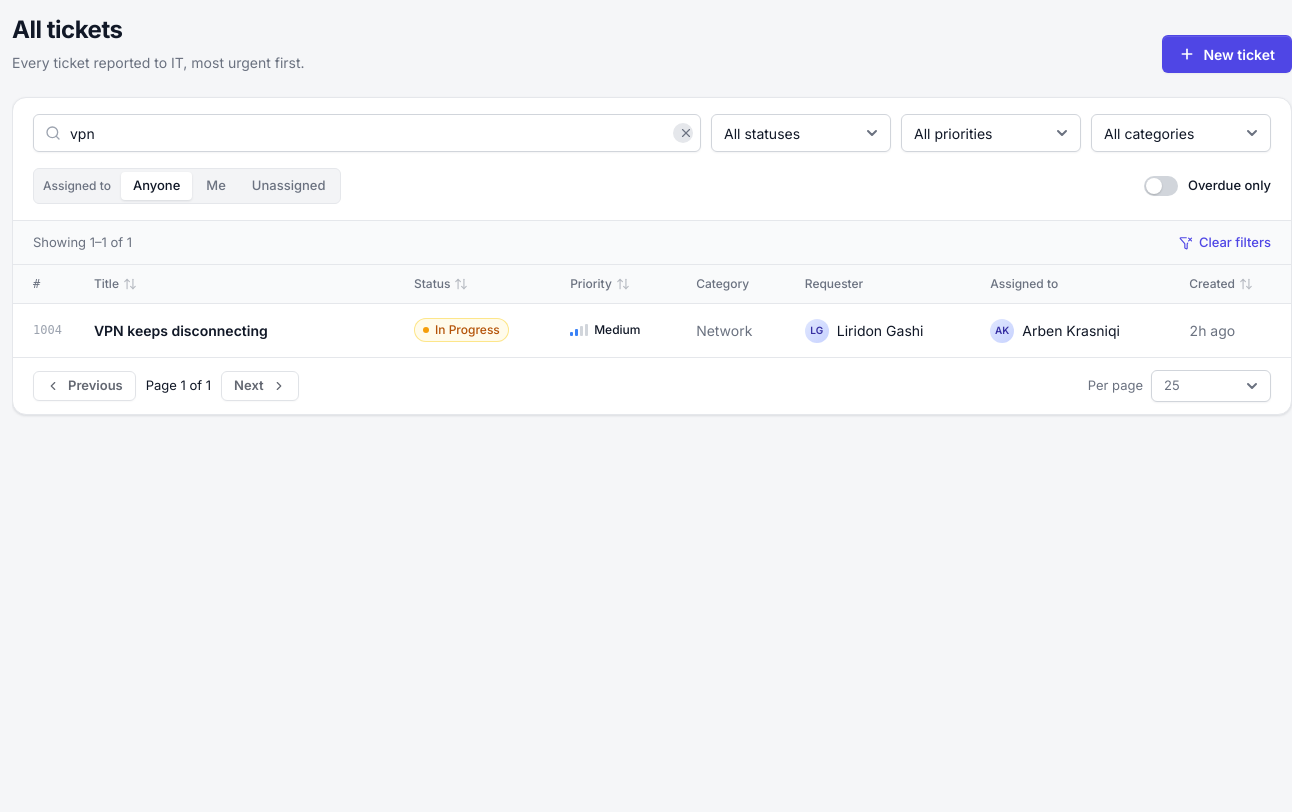
Test: TicketList › filters › clears the search with the × button
Click the button named "Clear search". click: (683, 133)
box: [673,123,693,143]
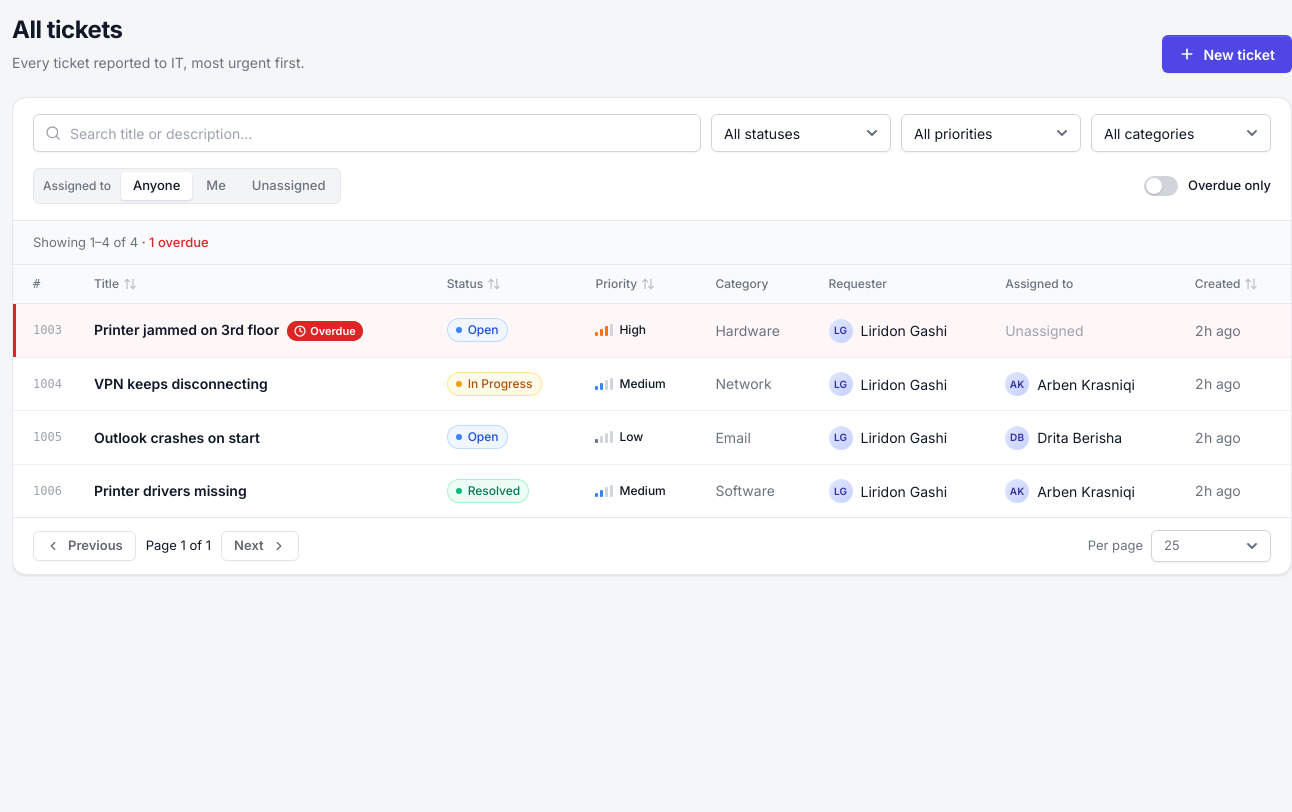
Expected: the search field named "Search tickets" is empty, [33,114,701,152]
